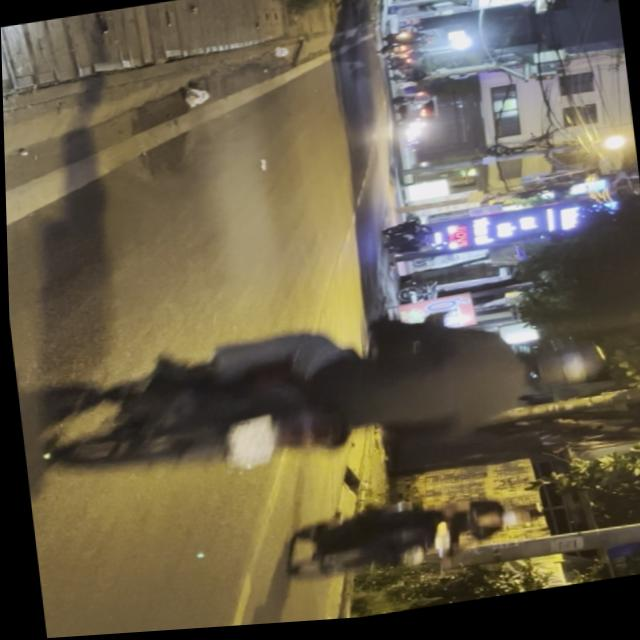helmet: (515, 345, 606, 402)
licenseplate: (26, 286, 614, 507), (269, 480, 541, 597)
nohelmet: (225, 418, 276, 475)
